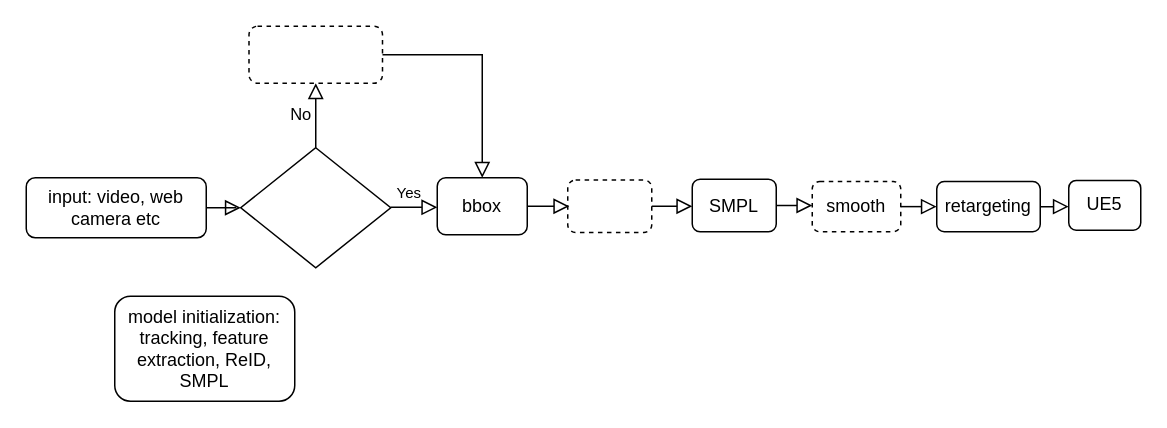
This 1167x428 diagram has some shape labels left out. Each missing label, with the box of its shape:
Human detection / tracking: (239, 146, 391, 268)
ReID: (566, 178, 652, 232)
tricks: (TBD): (248, 25, 382, 83)
